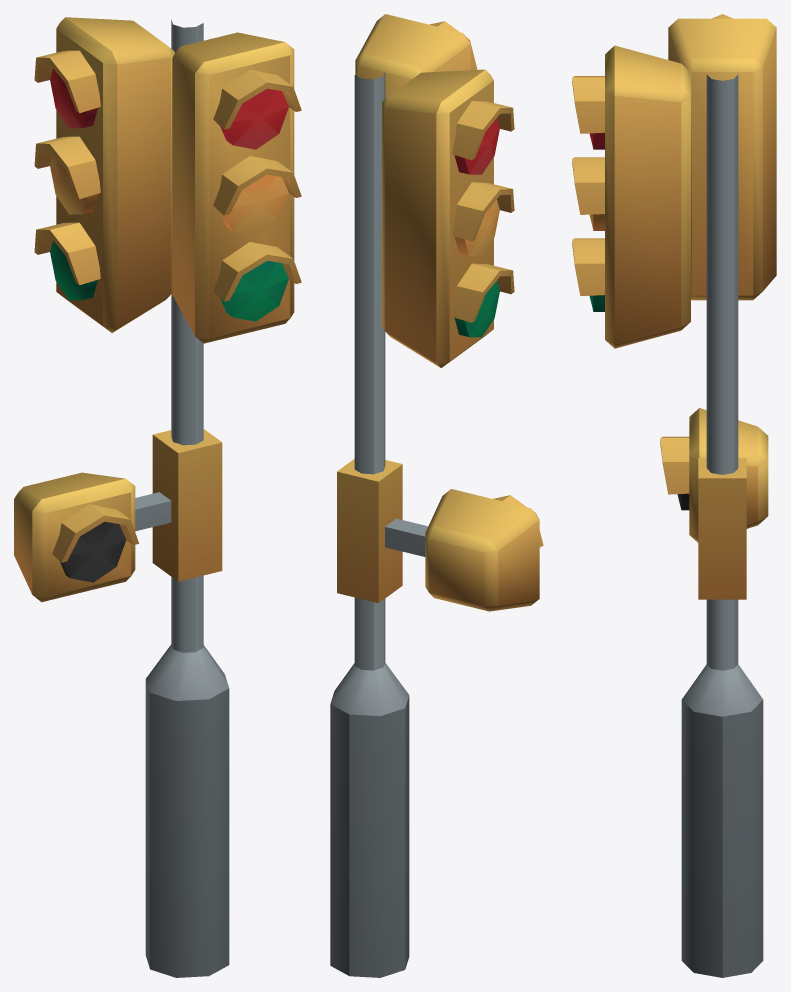
File: kk-trafficlight_A.glb
3 renders of one model, left to right at view 1: azimuth 30°, elevation 25°; view 2: azimuth 150°, elevation 25°; view 3: azimuth 270°, elevation 25°, orthographic. The views are drawn at different scales.
Visible parts, largest first — view 1: trafficlight_A; view 2: trafficlight_A; view 3: trafficlight_A.
Part boxes in pixels (<box>): trafficlight_A: <box>14,17,301,977</box>; trafficlight_A: <box>330,14,543,977</box>; trafficlight_A: <box>572,14,776,977</box>.
Size of the model in its own units: 0.1745 by 0.7295 by 0.1506.
Materials: 1 (1 with a texture image).
